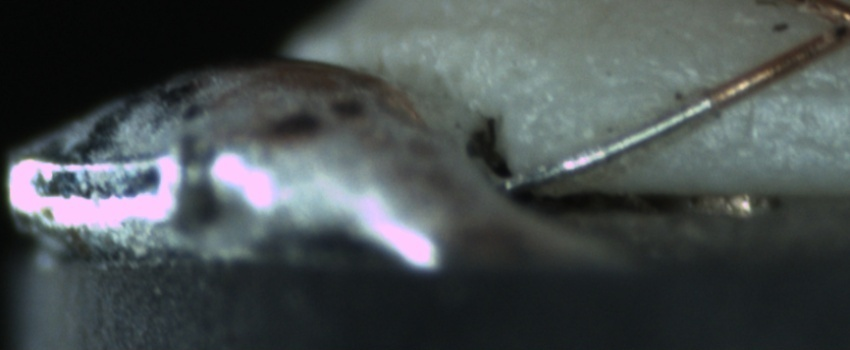TS: (499, 91, 710, 192)
